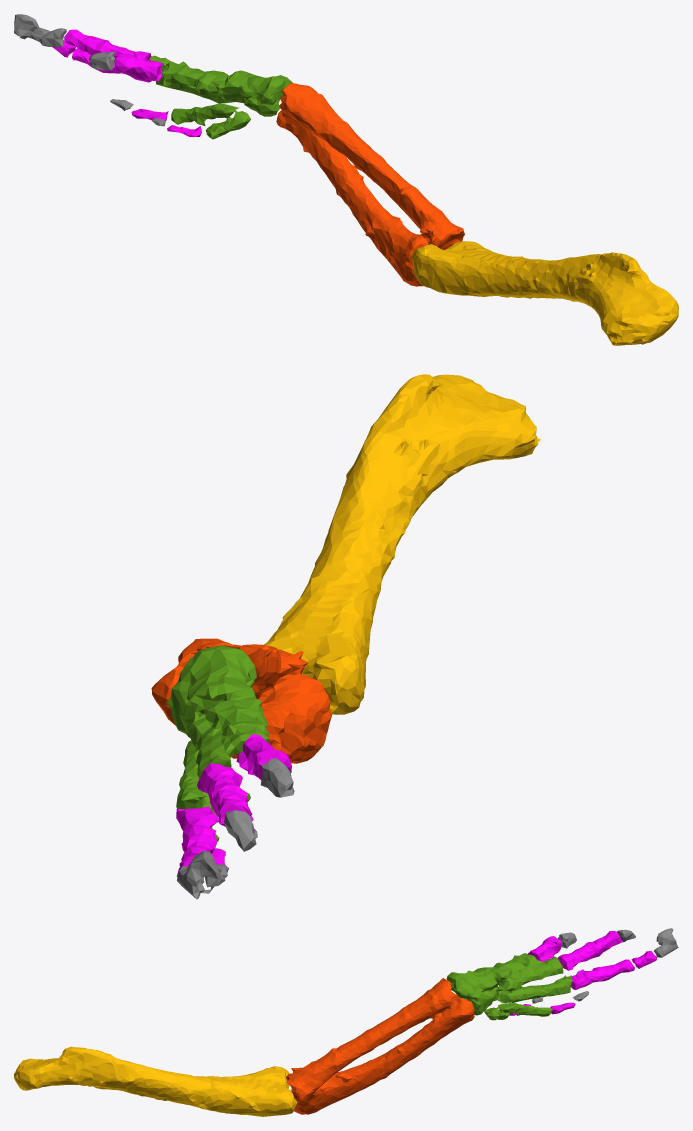
Rendered from hand_right.glb.
3 renders of one model, top to bottom at view 1: azimuth 30°, elevation 25°; view 2: azimuth 150°, elevation 25°; view 3: azimuth 270°, elevation 25°, orthographic. The views are drawn at different scales.
Parts seen in each view (by area): view 1: Shape_IndexedFaceSet, Shape_IndexedFaceSet.004, Shape_IndexedFaceSet.003, Shape_IndexedFaceSet.002, Shape_IndexedFaceSet.001; view 2: Shape_IndexedFaceSet, Shape_IndexedFaceSet.003, Shape_IndexedFaceSet.004, Shape_IndexedFaceSet.002, Shape_IndexedFaceSet.001; view 3: Shape_IndexedFaceSet, Shape_IndexedFaceSet.004, Shape_IndexedFaceSet.003, Shape_IndexedFaceSet.002, Shape_IndexedFaceSet.001.
Part boxes in pixels (x1,y1,x2,y2): Shape_IndexedFaceSet: (411, 241, 678, 345); Shape_IndexedFaceSet.004: (276, 83, 464, 286); Shape_IndexedFaceSet.003: (149, 55, 292, 139); Shape_IndexedFaceSet.002: (52, 29, 201, 136); Shape_IndexedFaceSet.001: (14, 14, 165, 126); Shape_IndexedFaceSet: (264, 374, 540, 714); Shape_IndexedFaceSet.003: (167, 645, 269, 841); Shape_IndexedFaceSet.004: (151, 638, 332, 763); Shape_IndexedFaceSet.002: (176, 734, 291, 876); Shape_IndexedFaceSet.001: (177, 758, 294, 899); Shape_IndexedFaceSet: (14, 1046, 296, 1116); Shape_IndexedFaceSet.004: (286, 978, 474, 1114); Shape_IndexedFaceSet.003: (446, 953, 573, 1020); Shape_IndexedFaceSet.002: (509, 931, 656, 1015); Shape_IndexedFaceSet.001: (532, 928, 678, 1003).
Bounding box in the file's own units: 0.0159 × 0.00854 × 0.0423.
